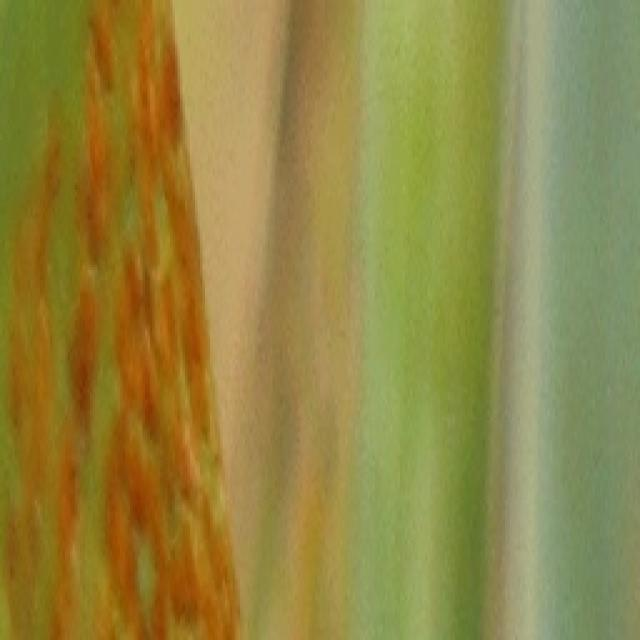Brown Rust: (0, 0, 245, 638)
